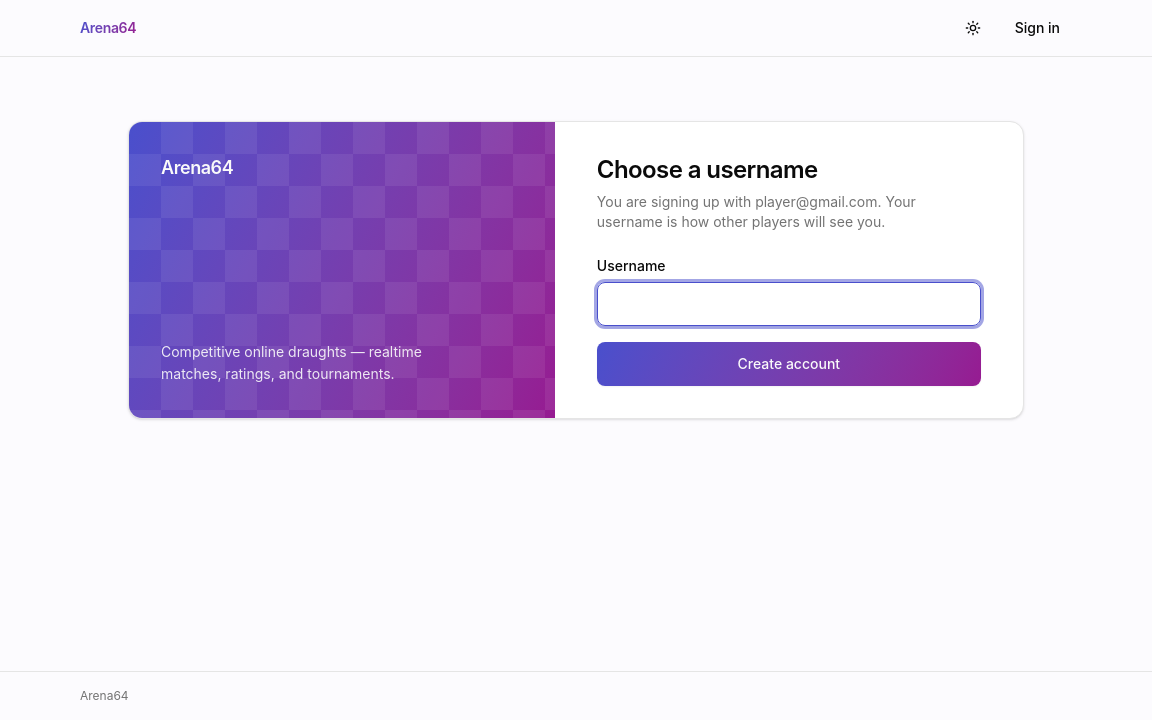
Scenario: choosing a username after Google › creates the account and goes where the person was going
Expected: the text "player@gmail.com" is shown, [597,193,916,230]
Type "player_one" into the field labelled "Username" at (789, 304), box [597,282,981,326]
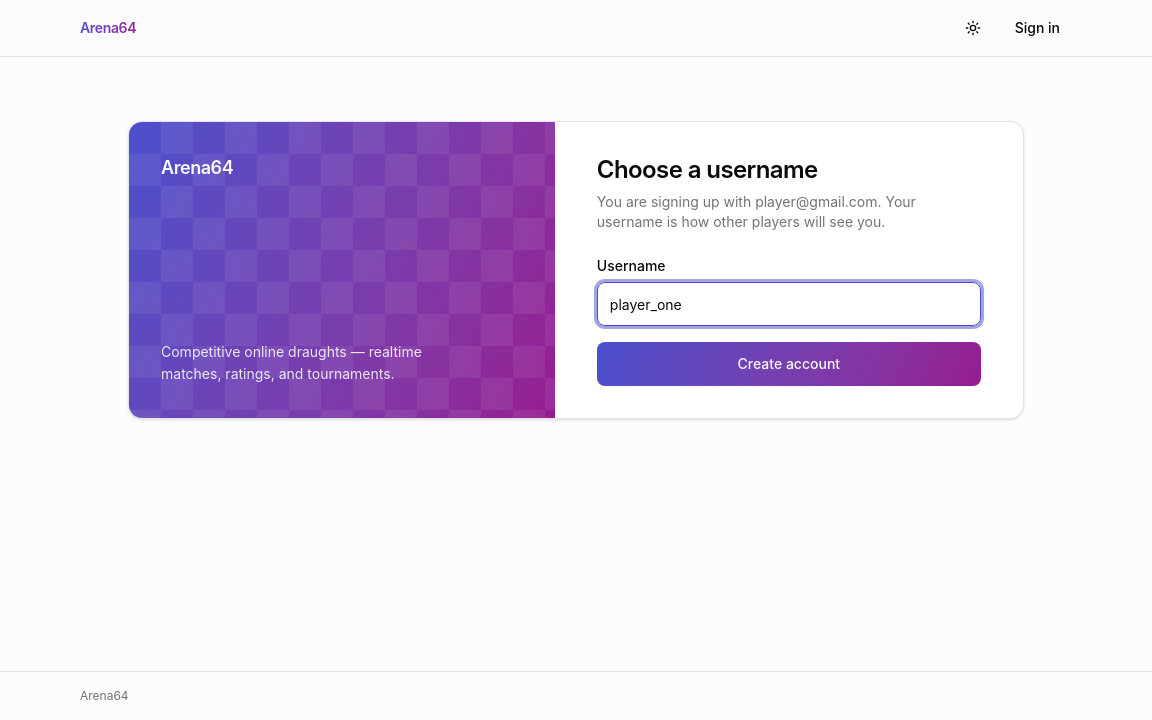
Click the button "Create account" at (789, 364), box [597,342,981,386]
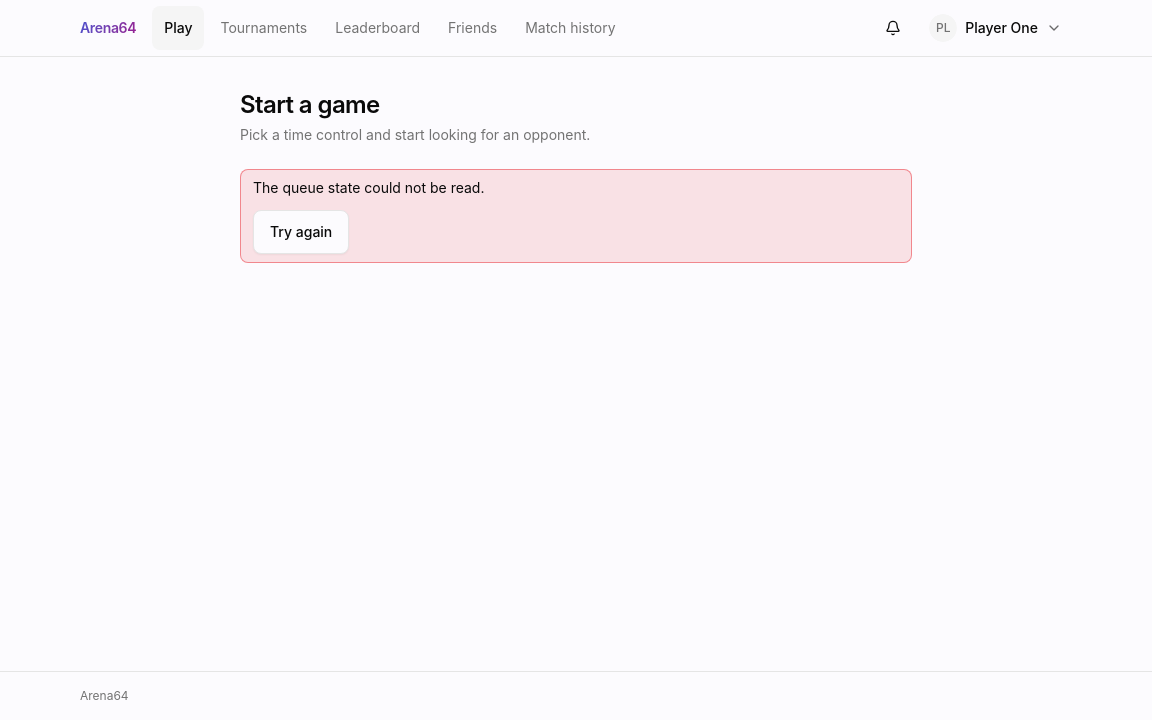
Expected: the text "Player One" is shown, [965,18,1038,38]
